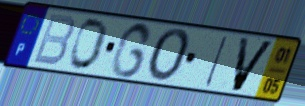B: (30, 12, 78, 68)
G: (109, 21, 154, 80)
I: (202, 33, 231, 89)
O: (145, 27, 193, 85), (67, 17, 111, 72)
V: (230, 35, 277, 94)
